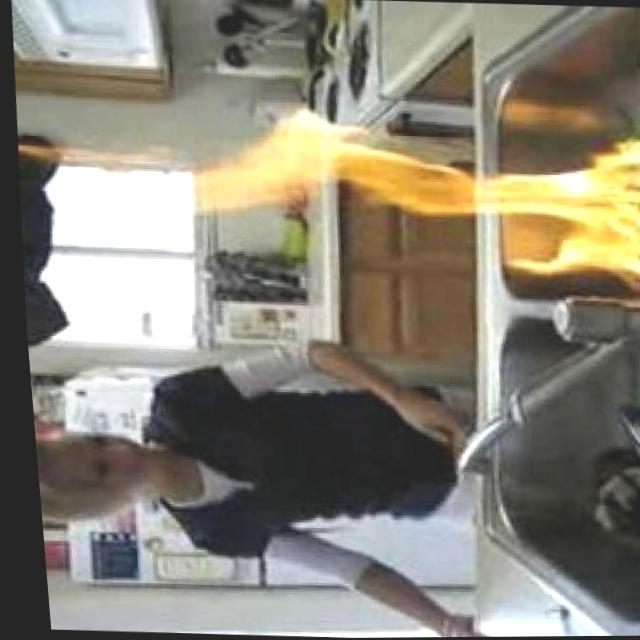Fire: (166, 100, 640, 288)
